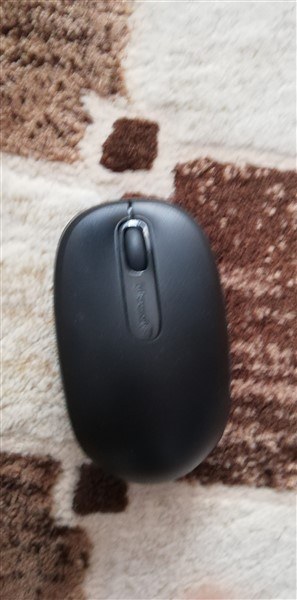mouse: (51, 191, 236, 491)
